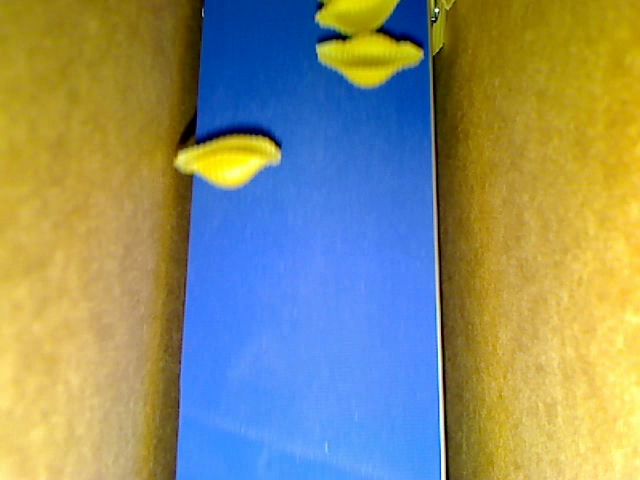penne: (427, 1, 447, 59), (439, 1, 455, 13)
shell: (312, 33, 427, 92), (177, 131, 283, 193), (315, 1, 401, 43)
